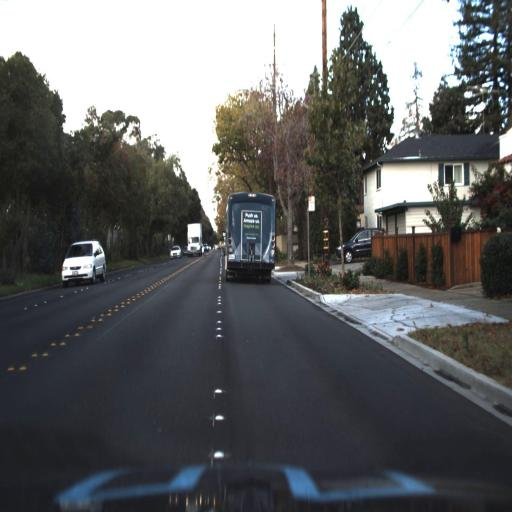car: (61, 239, 107, 289), (334, 222, 378, 261), (169, 245, 182, 263)
truck: (223, 189, 276, 288), (185, 215, 205, 259)
